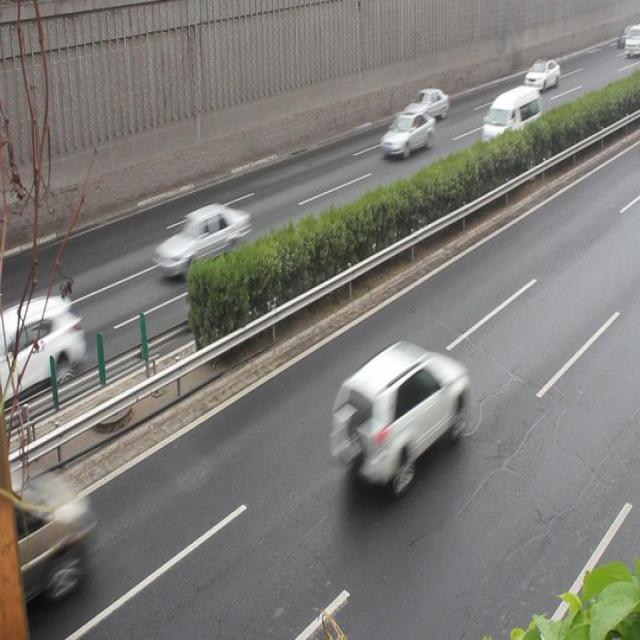car: (335, 341, 466, 486), (152, 202, 249, 280), (378, 110, 433, 158), (402, 87, 448, 122), (522, 56, 559, 93)
truck: (1, 464, 92, 616), (480, 86, 540, 157)
